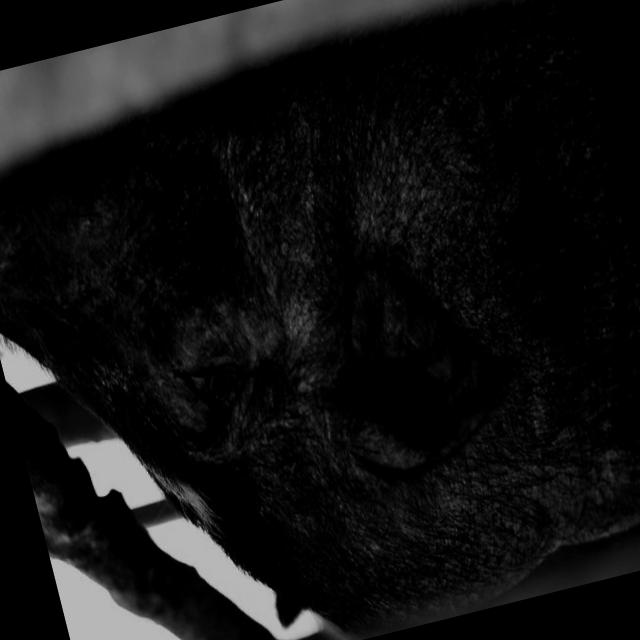pig: (0, 0, 640, 625)
